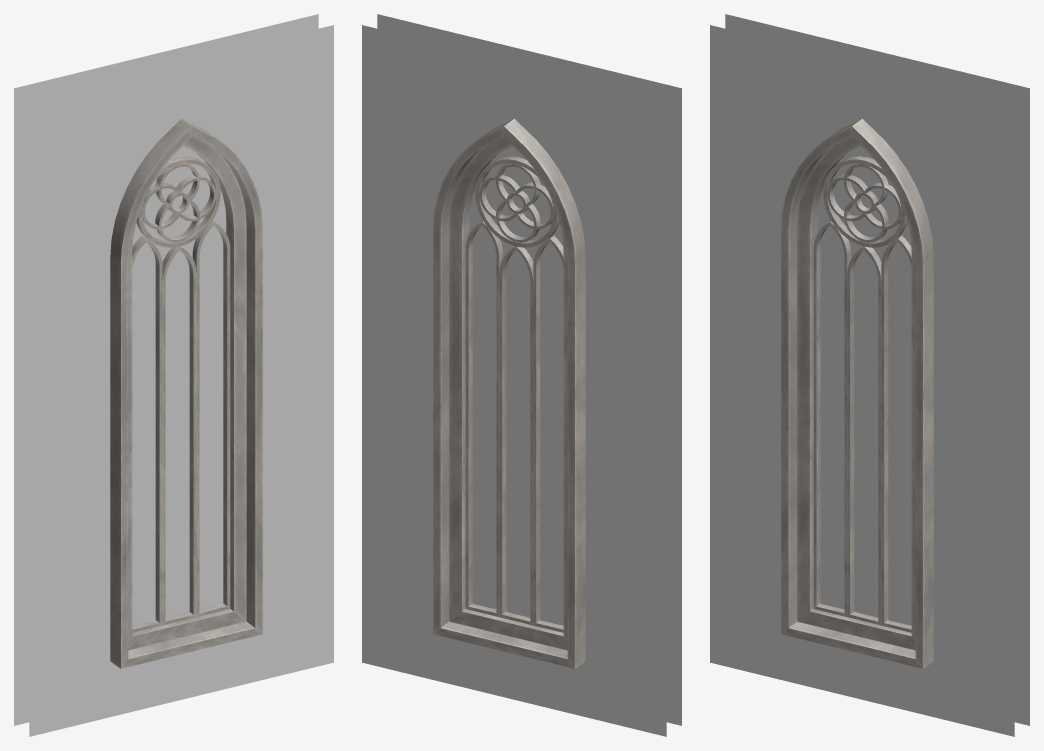
The model's file is Wall_Window_C_B.fbx.
3 views of the same model, side by side, from view 1: azimuth 30°, elevation 25°; view 2: azimuth 150°, elevation 25°; view 3: azimuth 330°, elevation 25° (orthographic).
Visible parts, largest first — view 1: Wall_Window_C_B; view 2: Wall_Window_C_B; view 3: Wall_Window_C_B.
Boxes of the visible parts, <box> form: Wall_Window_C_B: <box>14,14,333,736</box>; Wall_Window_C_B: <box>362,14,681,736</box>; Wall_Window_C_B: <box>710,14,1029,736</box>.
Bounding box in the file's own units: 3 × 0.6115 × 6.
